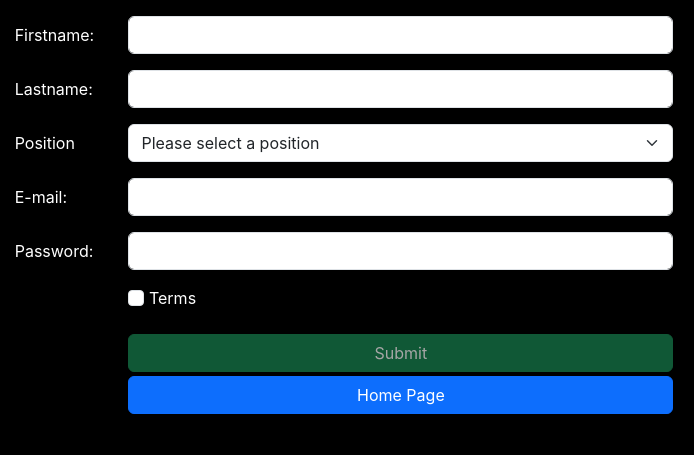
it: Form Tests › checks last name input errors
Type "aa" into the field with test id "input-last-name" at (401, 89), box [128,70,673,108]
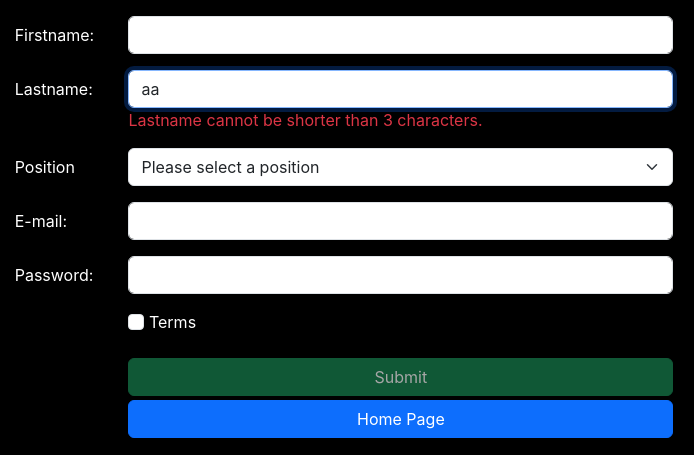
Result: the number of elements with test id "error" is 1 at [128,110,482,130]
Result: the text with test id "error" reads "Lastname cannot be shorter than 3 characters." at [128,110,482,130]
Clear the field with test id "input-last-name" at (401, 89), box [128,70,673,108]
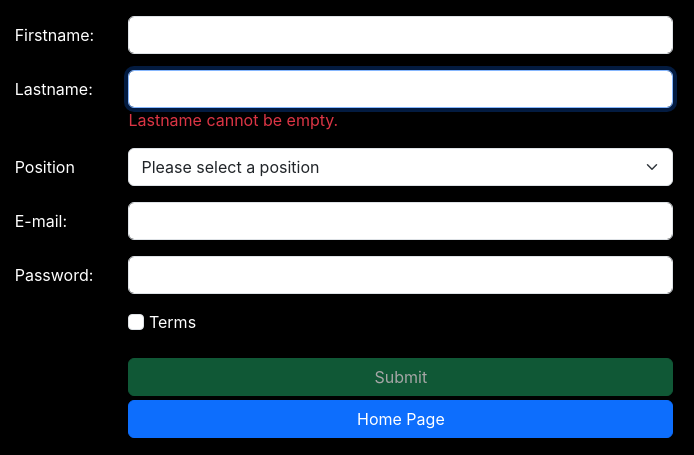
Result: the number of elements with test id "error" is 1 at [128,110,338,130]
Result: the text with test id "error" reads "Lastname cannot be empty." at [128,110,338,130]
